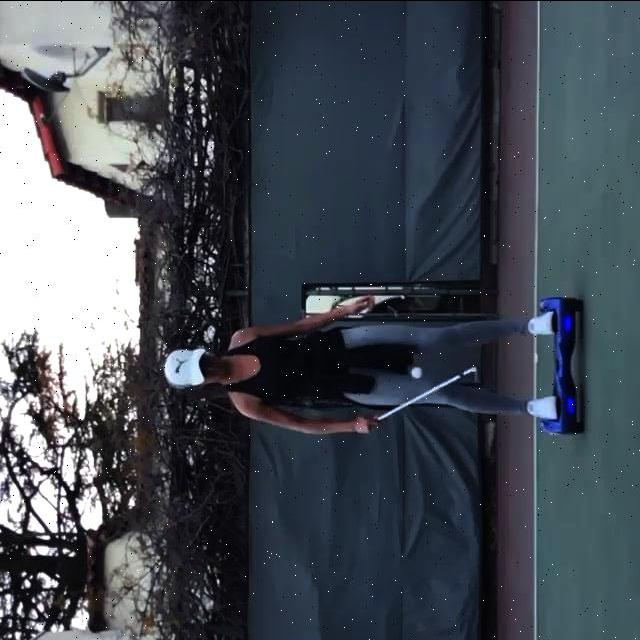golf ball: (409, 365, 423, 378)
golf club-handle: (375, 366, 481, 421)
golf club-head: (474, 366, 481, 383)
